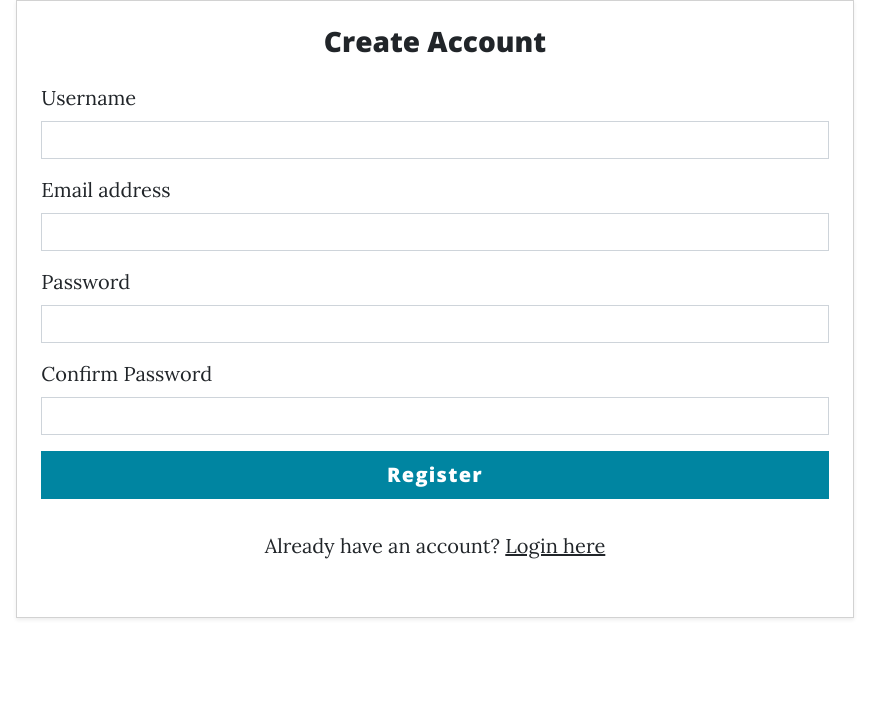
Test: pinned auth views › shows server registration failure and verification-pending copy safely
Type "someone" into the field labelled "Username" at point(435, 140), box [41,121,829,159]
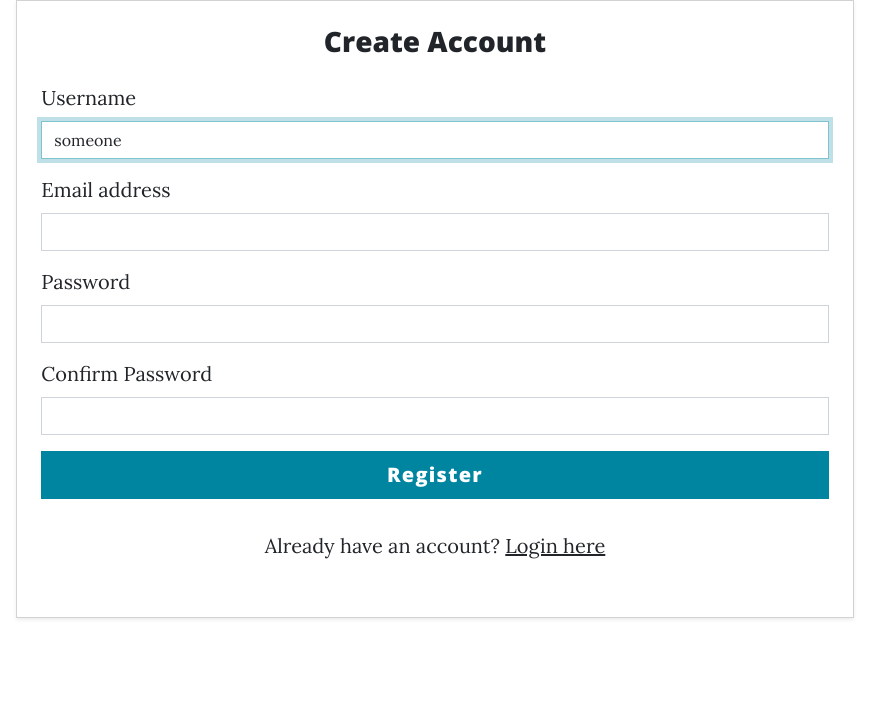
Type "e@example.com" into the field labelled "Email address" at point(435, 232), box [41,213,829,251]
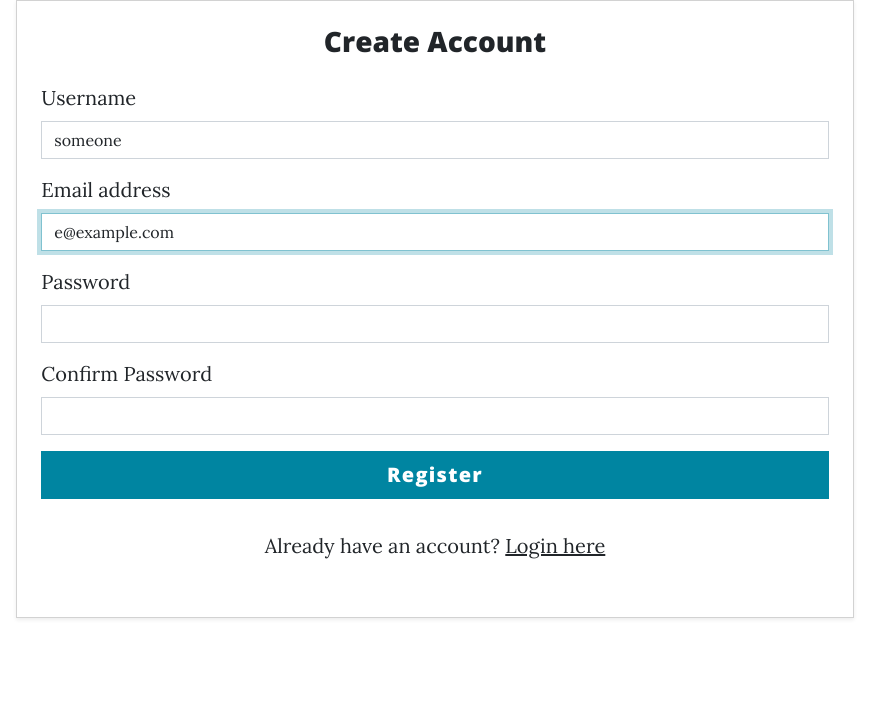
Type "secret123" into the password field labelled "Password" at point(435, 324), box [41,305,829,343]
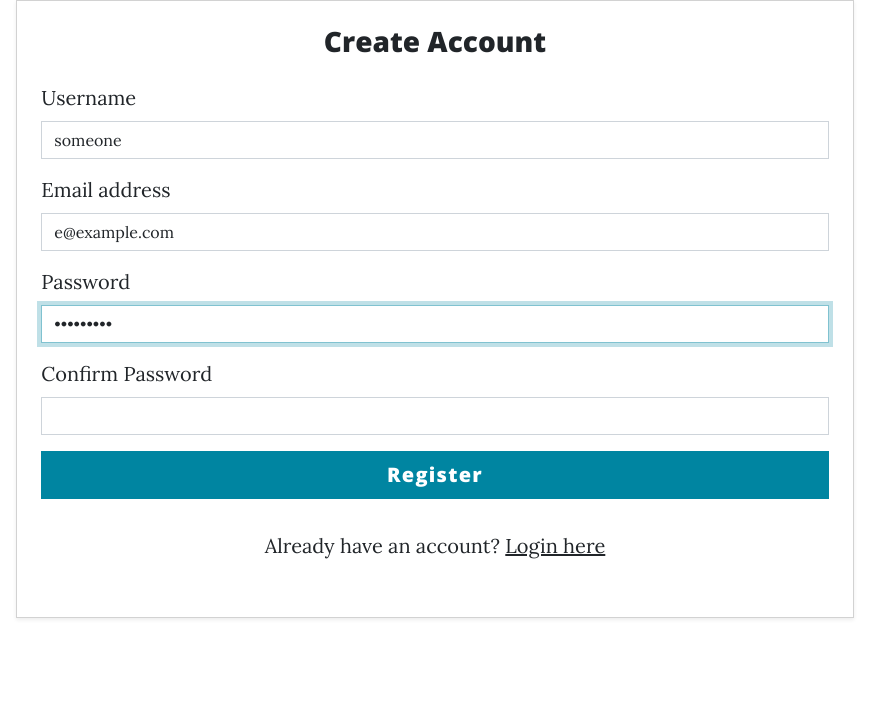
Type "secret123" into the password field labelled "Confirm Password" at point(435, 416), box [41,397,829,435]
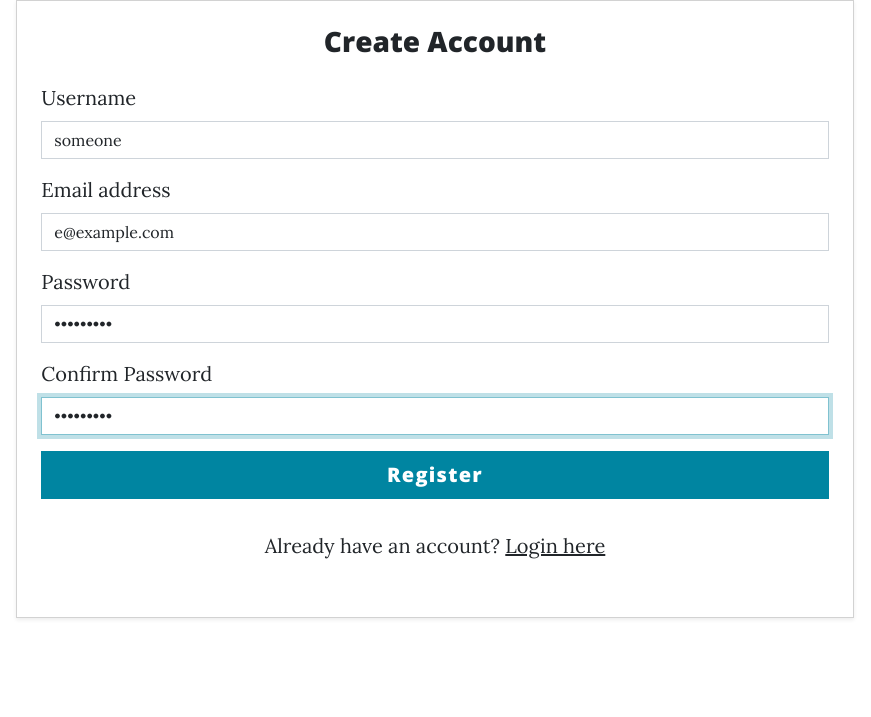
Click the button "Register" at point(435, 475), box [41,451,829,499]
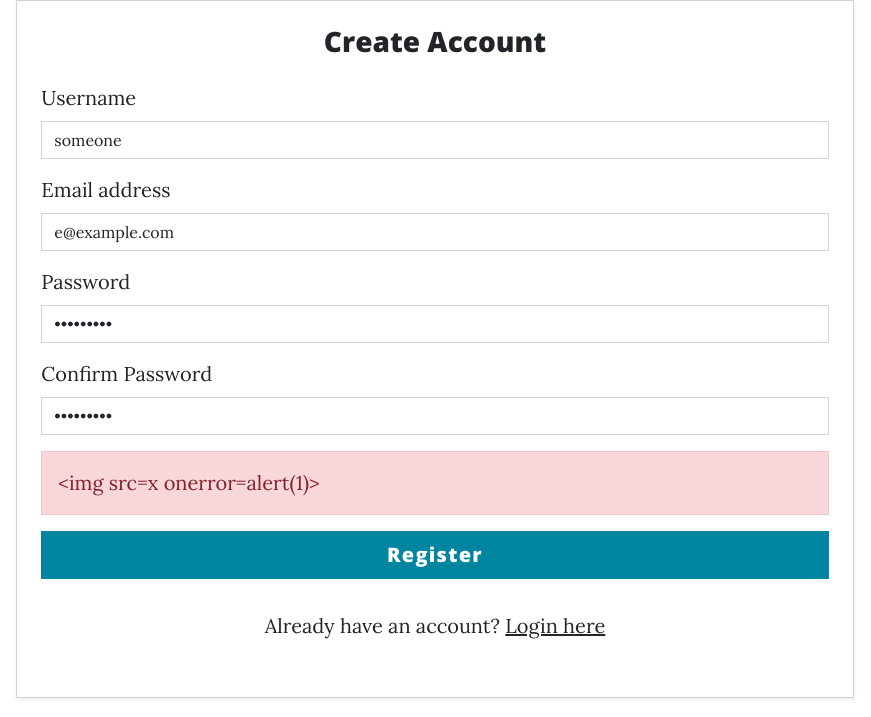
Result: the message reads "<img src=x onerror=alert(1)>" at [58,470,320,495]
